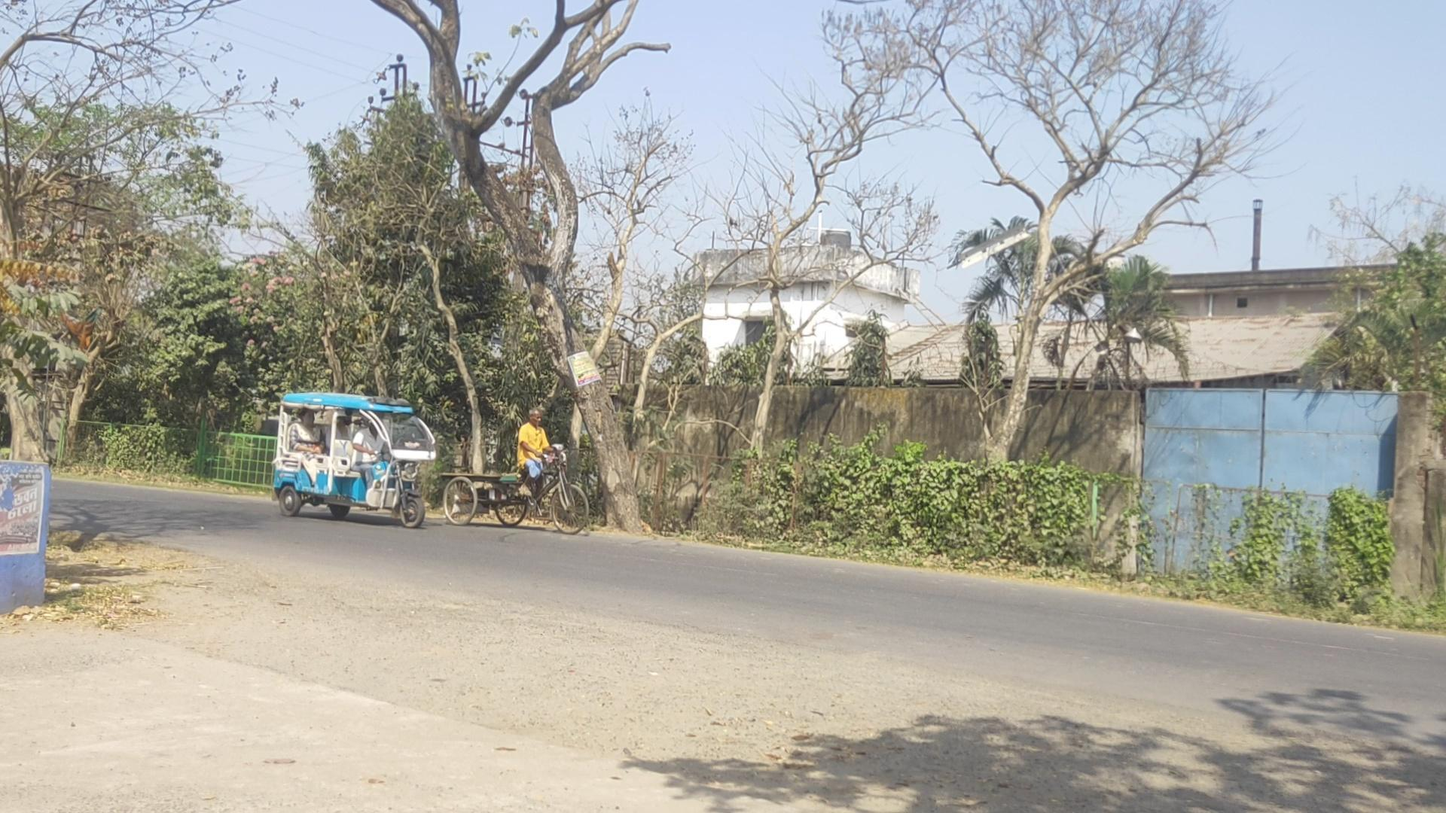Auto: (273, 392, 436, 528)
